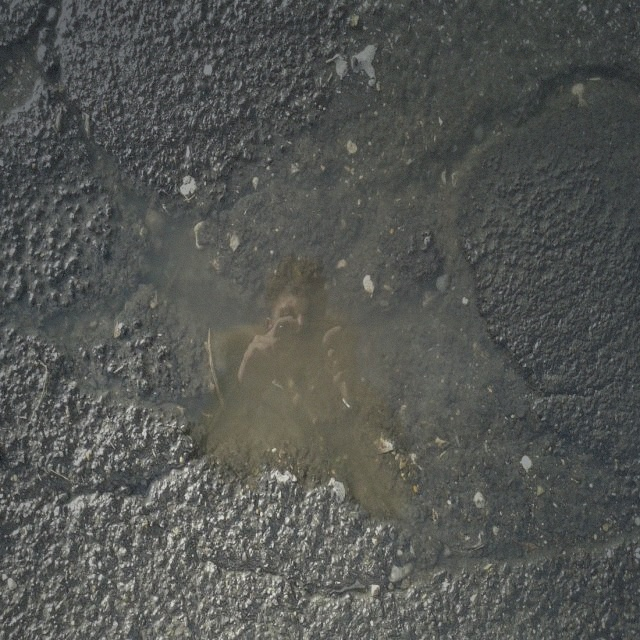pothole: (119, 132, 532, 581)
